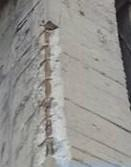Exposed reinforcement: (44, 28, 55, 158), (36, 136, 55, 148), (39, 113, 56, 126), (36, 58, 52, 70), (38, 26, 52, 39), (37, 78, 53, 89), (39, 96, 55, 107), (38, 43, 50, 52)
Spalling: (33, 20, 72, 167)
